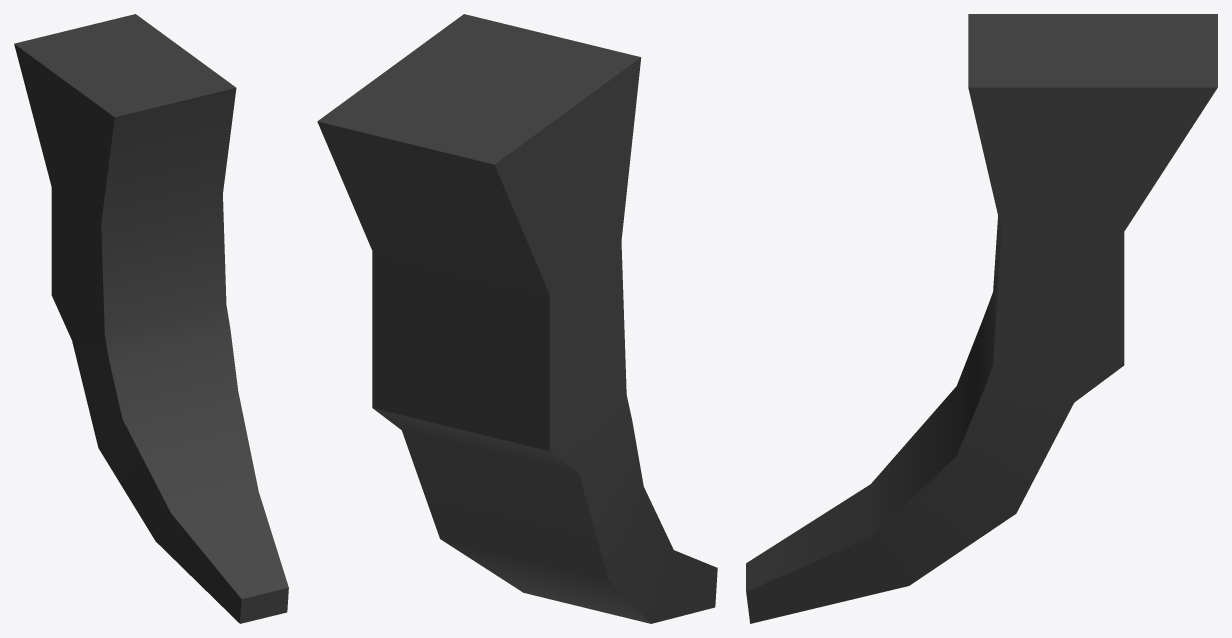
Rendered from PistolTrigger.obj.
The picture shows the model from 3 angles, left to right: view 1: azimuth 30°, elevation 25°; view 2: azimuth 150°, elevation 25°; view 3: azimuth 270°, elevation 25°; orthographic projection. The views are drawn at different scales.
Visible parts, largest first — view 1: Pistol.002; view 2: Pistol.002; view 3: Pistol.002.
Part boxes in pixels (box(x1,y1,x2,y2)): Pistol.002: box(14, 14, 288, 623); Pistol.002: box(317, 14, 717, 623); Pistol.002: box(746, 14, 1217, 623).
Bounding box in the file's own units: 0.4516 × 1.6 × 1.22.
1 material, 1 textured.
